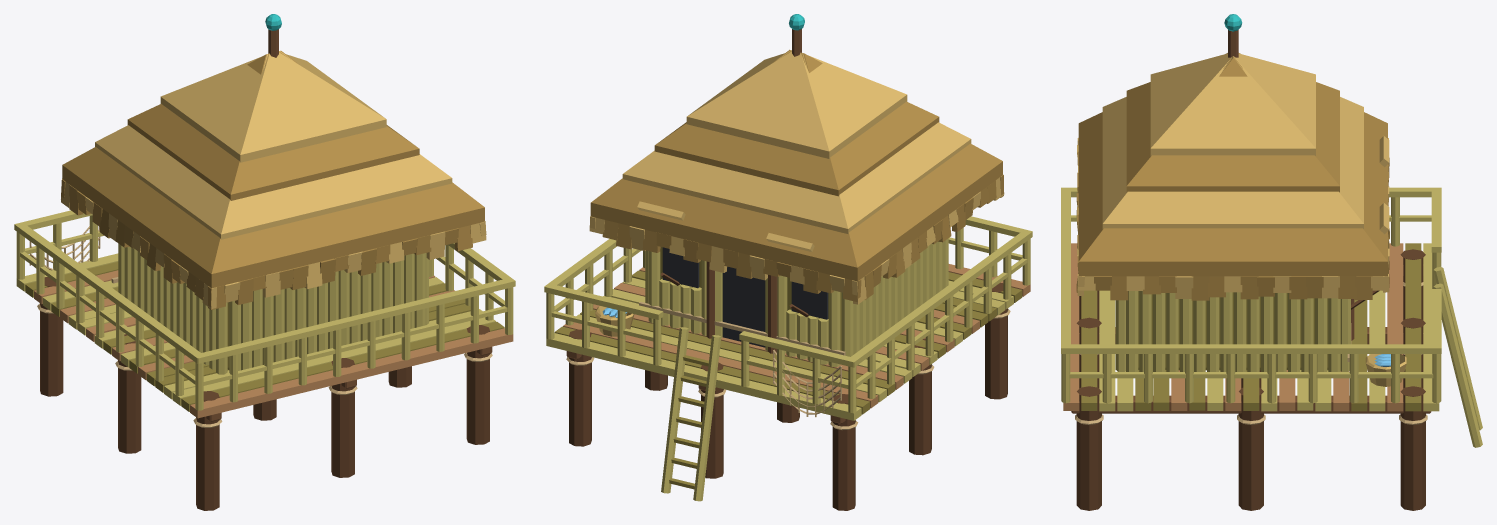
Rendered from StiltHut.fbx.
The picture shows the model from 3 angles, left to right: view 1: azimuth 30°, elevation 25°; view 2: azimuth 150°, elevation 25°; view 3: azimuth 270°, elevation 25°; orthographic projection. The views are drawn at different scales.
Parts seen in each view (by area): view 1: StiltHut_Bamboo, StiltHut_ThatchDark, StiltHut_Thatch, StiltHut_Bark, StiltHut_Plank, StiltHut_BambooDark, StiltHut_Rope, StiltHut_WoodDark; view 2: StiltHut_Bamboo, StiltHut_ThatchDark, StiltHut_Thatch, StiltHut_Bark, StiltHut_BambooDark, StiltHut_Charcoal, StiltHut_Plank, StiltHut_Rope, StiltHut_WoodDark; view 3: StiltHut_Bamboo, StiltHut_ThatchDark, StiltHut_Thatch, StiltHut_Bark, StiltHut_BambooDark, StiltHut_Plank, StiltHut_WoodDark, StiltHut_Rope.
Part boxes in pixels (left/top/right/bottom): StiltHut_Bamboo: left=14, top=210, right=515, bottom=410; StiltHut_ThatchDark: left=61, top=50, right=484, bottom=309; StiltHut_Thatch: left=61, top=51, right=486, bottom=308; StiltHut_Bark: left=40, top=277, right=489, bottom=510; StiltHut_Plank: left=34, top=270, right=513, bottom=418; StiltHut_BambooDark: left=25, top=262, right=504, bottom=411; StiltHut_Rope: left=29, top=226, right=492, bottom=427; StiltHut_WoodDark: left=206, top=29, right=492, bottom=421; StiltHut_Bamboo: left=544, top=216, right=1032, bottom=501; StiltHut_ThatchDark: left=590, top=49, right=1003, bottom=301; StiltHut_Thatch: left=589, top=50, right=1004, bottom=336; StiltHut_Bark: left=569, top=280, right=1007, bottom=510; StiltHut_BambooDark: left=554, top=247, right=1022, bottom=489; StiltHut_Charcoal: left=662, top=247, right=828, bottom=347; StiltHut_Plank: left=563, top=264, right=1030, bottom=408; StiltHut_Rope: left=566, top=302, right=1010, bottom=430; StiltHut_WoodDark: left=566, top=29, right=845, bottom=423; StiltHut_Bamboo: left=1061, top=187, right=1482, bottom=447; StiltHut_ThatchDark: left=1076, top=53, right=1389, bottom=300; StiltHut_Thatch: left=1076, top=53, right=1406, bottom=386; StiltHut_Bark: left=1076, top=249, right=1425, bottom=510; StiltHut_BambooDark: left=1081, top=243, right=1477, bottom=421; StiltHut_Plank: left=1063, top=243, right=1403, bottom=411; StiltHut_WoodDark: left=1071, top=30, right=1431, bottom=413; StiltHut_Rope: left=1075, top=282, right=1427, bottom=424.
Bounding box in the file's own units: 21.15 × 25.96 × 23.45.
